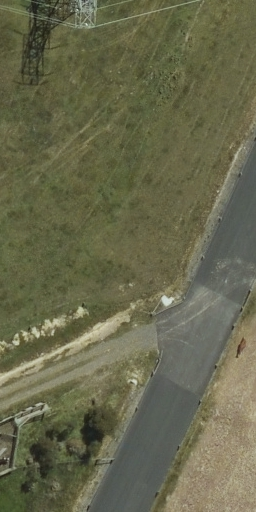TT: (58, 1, 104, 36)
